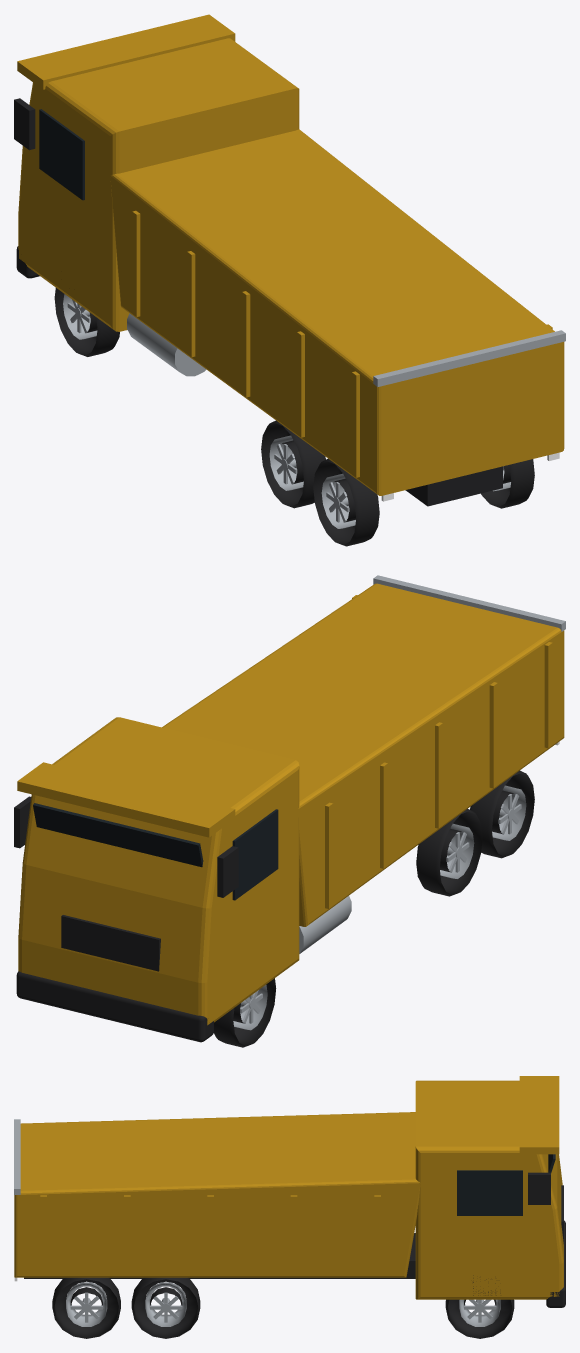
The model's file is TIPPER_TRUCK.glb.
3 renders of one model, top to bottom at view 1: azimuth 30°, elevation 25°; view 2: azimuth 150°, elevation 25°; view 3: azimuth 270°, elevation 25°, orthographic. The views are drawn at different scales.
Visible parts, largest first — view 1: paint_0, tread_2, steel_3, glass_1; view 2: paint_0, tread_2, glass_1, steel_3; view 3: paint_0, tread_2, steel_3, glass_1.
Part boxes in pixels (x1,y1,x2,y2): paint_0: (17, 14, 564, 495); tread_2: (14, 98, 534, 546); steel_3: (63, 294, 565, 528); glass_1: (39, 109, 84, 200); paint_0: (17, 583, 564, 1025); tread_2: (14, 770, 534, 1047); glass_1: (33, 803, 278, 900); steel_3: (233, 575, 565, 1030); paint_0: (14, 1076, 563, 1299); tread_2: (24, 1172, 565, 1338); steel_3: (14, 1119, 500, 1326); glass_1: (457, 1154, 555, 1215).
Bounding box in the file's own units: 2.78 × 3.26 × 8.35.
